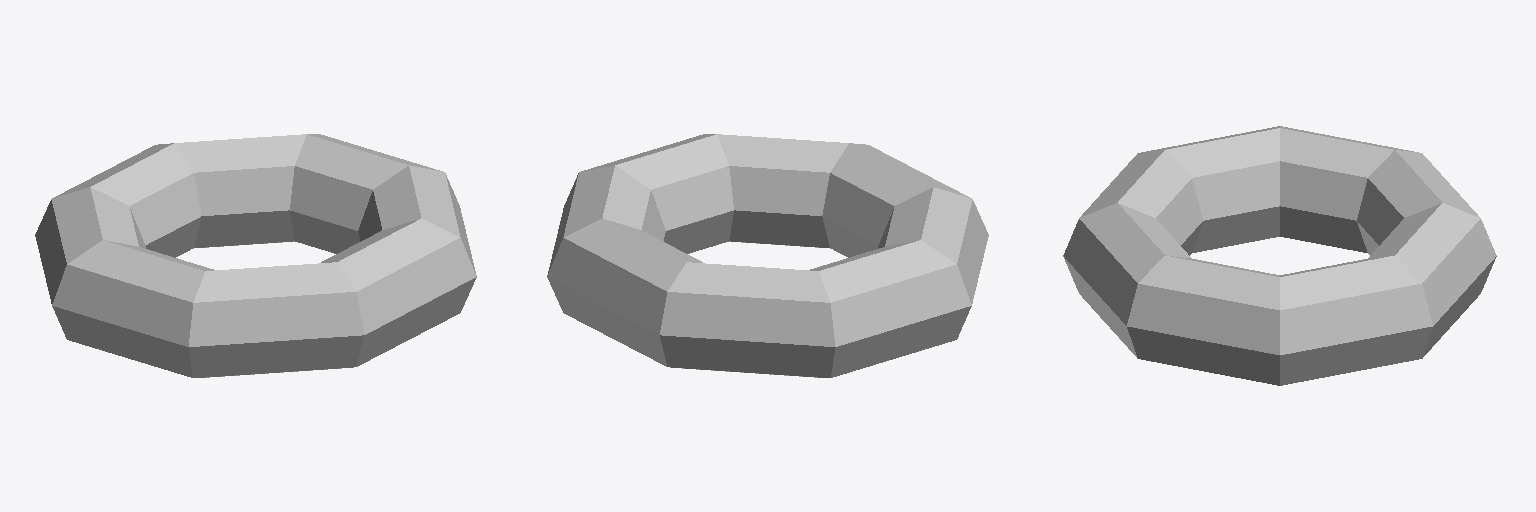
Rendered from donuts.obj.
3 views of the same model, side by side, from view 1: azimuth 30°, elevation 25°; view 2: azimuth 150°, elevation 25°; view 3: azimuth 270°, elevation 25° (orthographic).
Parts seen in each view (by area): view 1: ungrouped; view 2: ungrouped; view 3: ungrouped.
Boxes of the visible parts, box(x1,y1,x2,y2) form: ungrouped: box(35, 134, 476, 377); ungrouped: box(547, 134, 988, 377); ungrouped: box(1063, 126, 1496, 385).
Bounding box in the file's own units: 22.46 × 5.62 × 20.68.